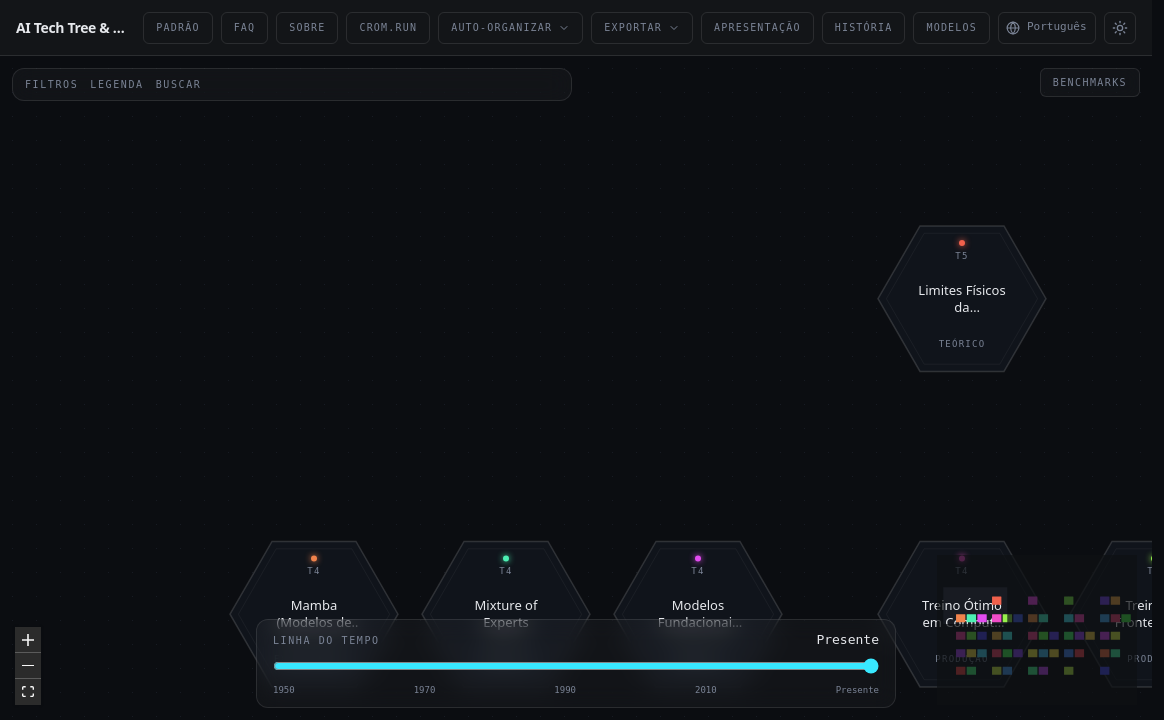
App › Auto-organizar abre o menu, e escolher um tipo grava uma posição para todas as habilidades
Click the button "Auto-organizar": (511,28) [438, 12, 583, 44]
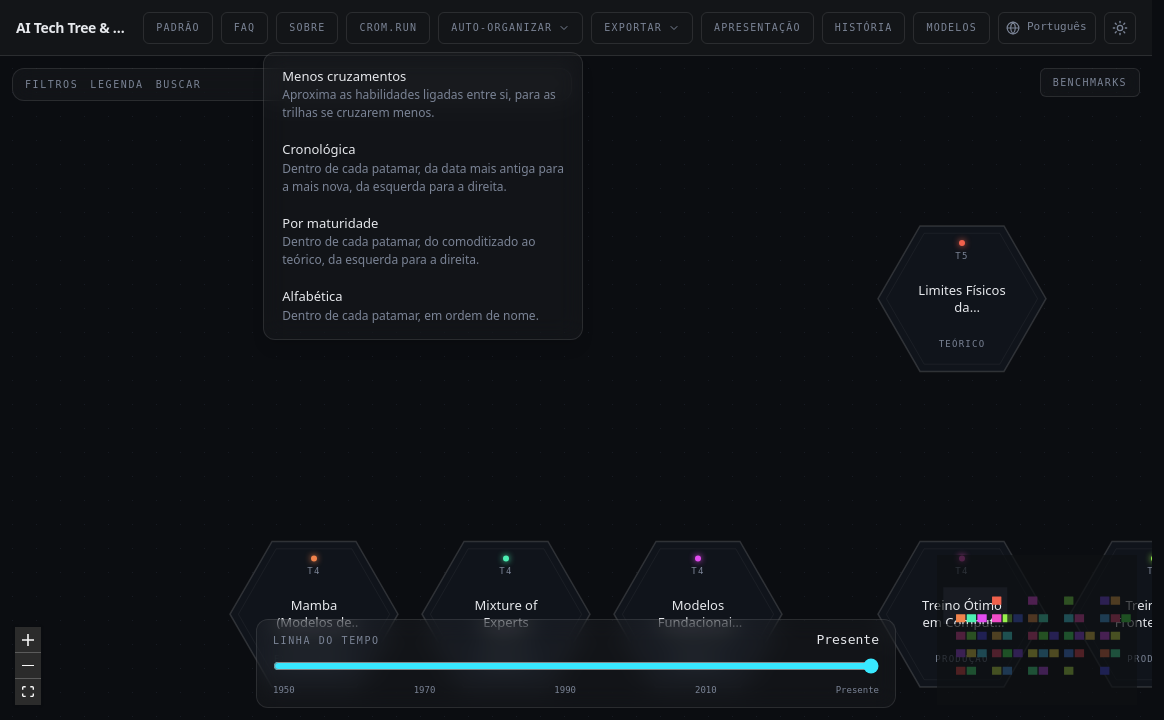
Expected: the number of menu items is 4
Click the menu item "Alfabética Dentro de cada patamar, em ordem de nome.": (423,306) [270, 279, 576, 332]
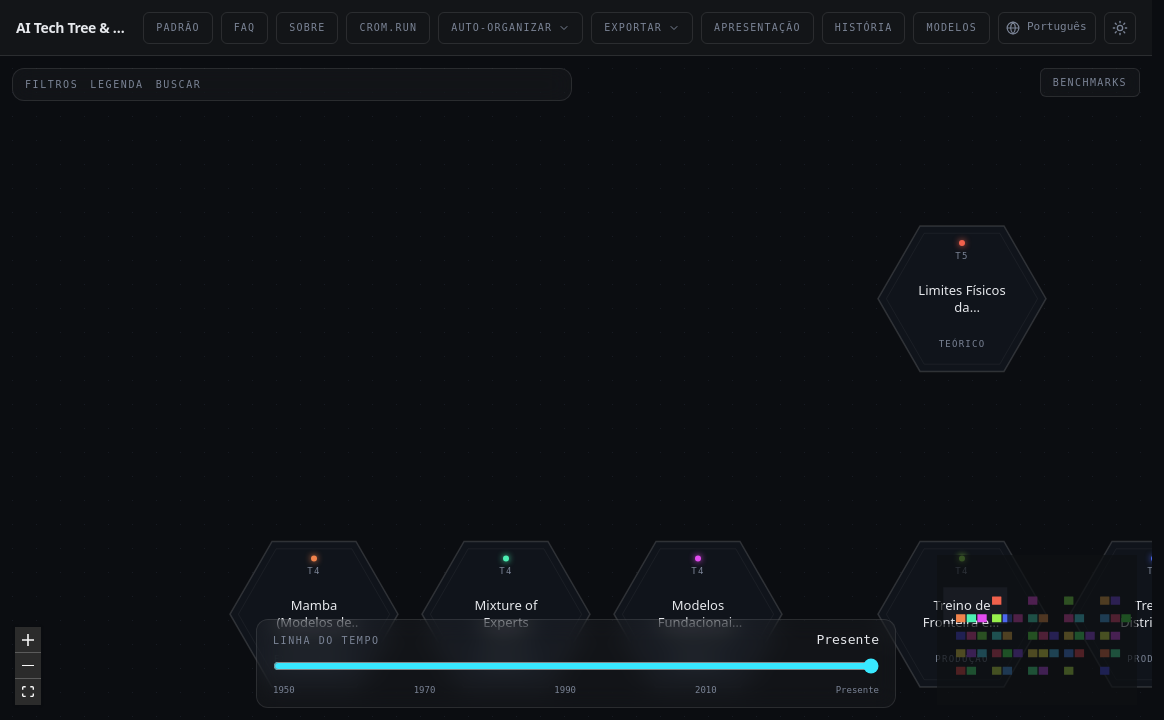
Expected: the menu is gone
